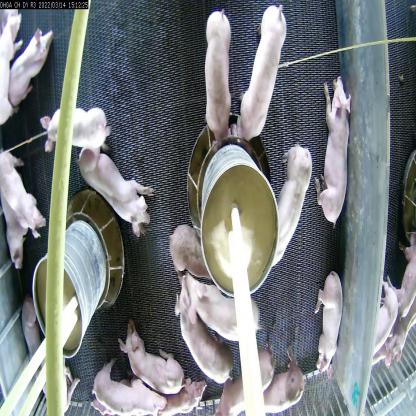Pig: (239, 12, 283, 153), (186, 283, 268, 354), (81, 150, 156, 227), (176, 294, 230, 400), (271, 148, 316, 271), (317, 73, 351, 235), (202, 3, 237, 146), (118, 319, 182, 397), (215, 342, 279, 415), (92, 356, 167, 416), (9, 34, 60, 109), (45, 105, 112, 160), (248, 359, 308, 415), (0, 180, 33, 271), (168, 219, 212, 286), (153, 362, 203, 415), (3, 157, 40, 227)
